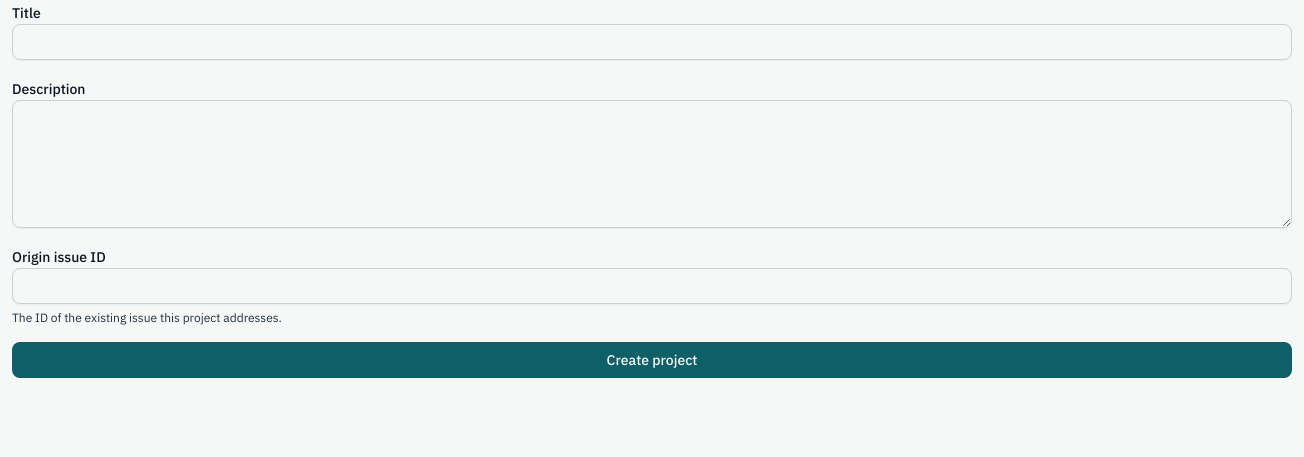
Test: ProjectCreateForm › origin issue not found (404): specific message, input preserved
Type "Pipe repair" into the field labelled "Title". click: (652, 42)
box: [12,24,1292,60]
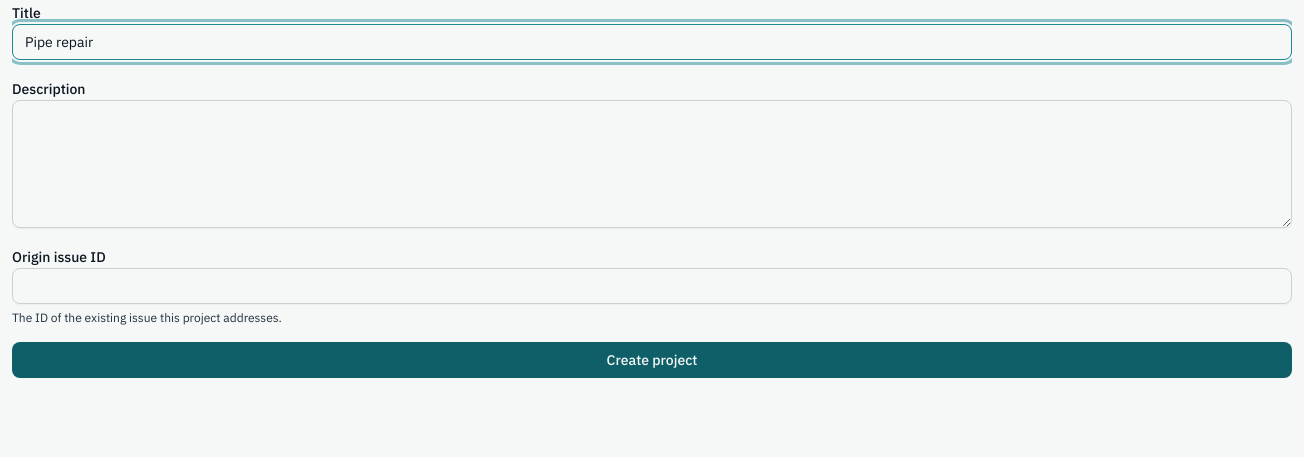
Type "Coordinated fix" into the text box labelled "Description". click: (652, 164)
box: [12,100,1292,228]
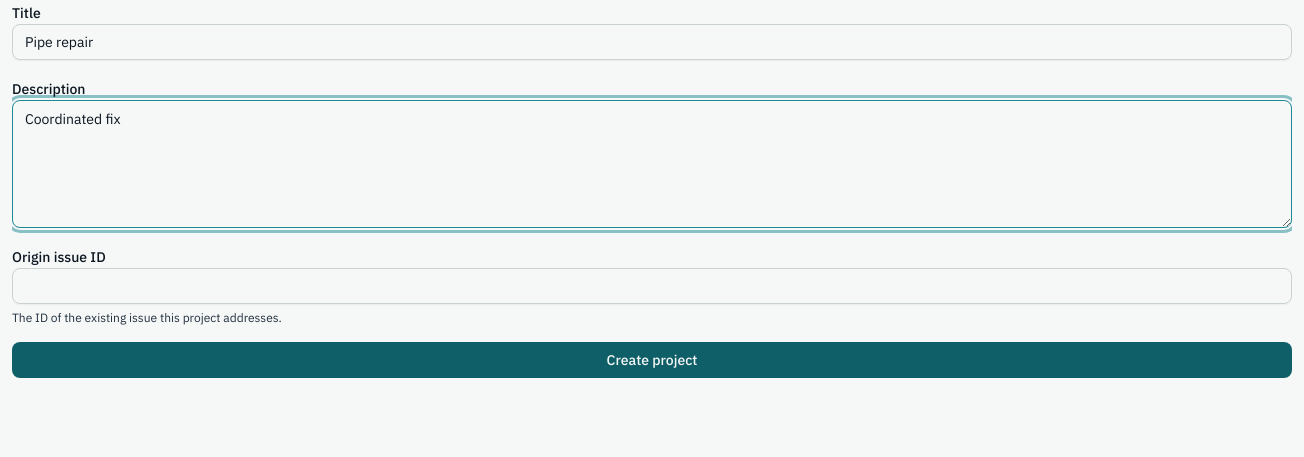
Type "507f1f77bcf86cd799439011" into the field labelled "Origin issue ID". click: (652, 286)
box: [12,268,1292,304]
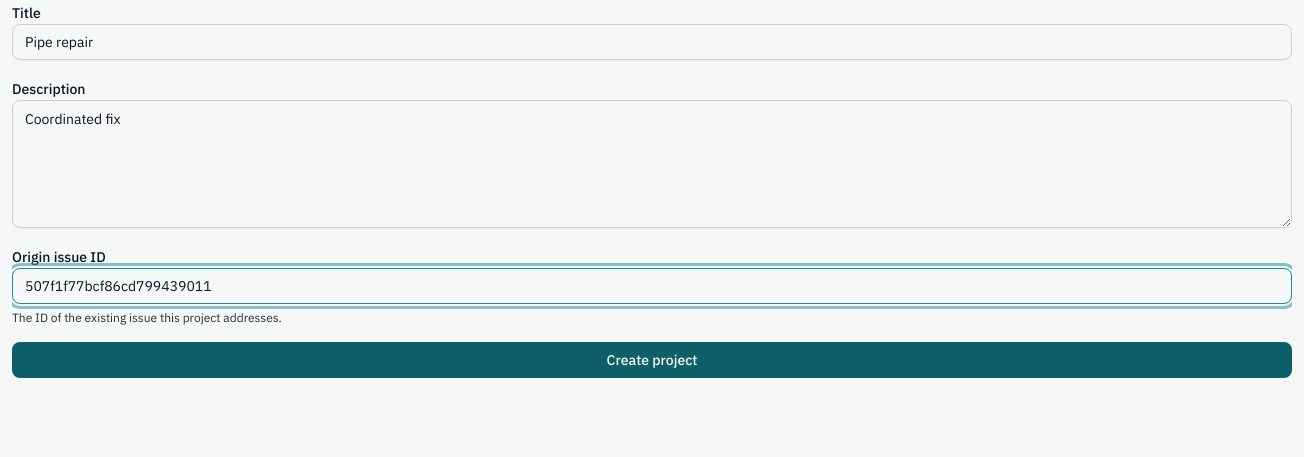
Click the button "Create project". click: (652, 360)
box: [12,342,1292,378]
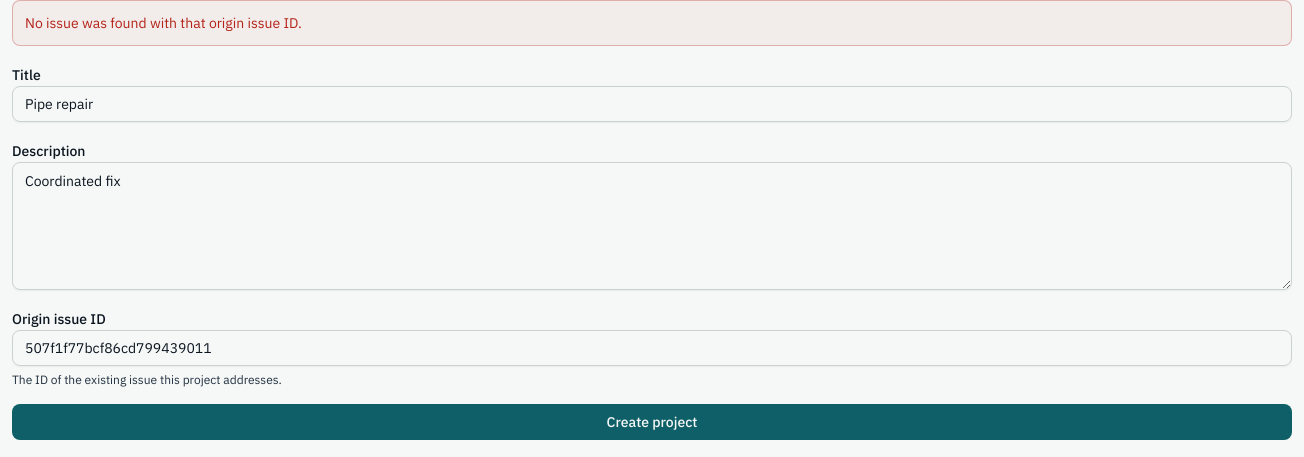
Result: the message shows "No issue was found" at [25,14,302,32]
